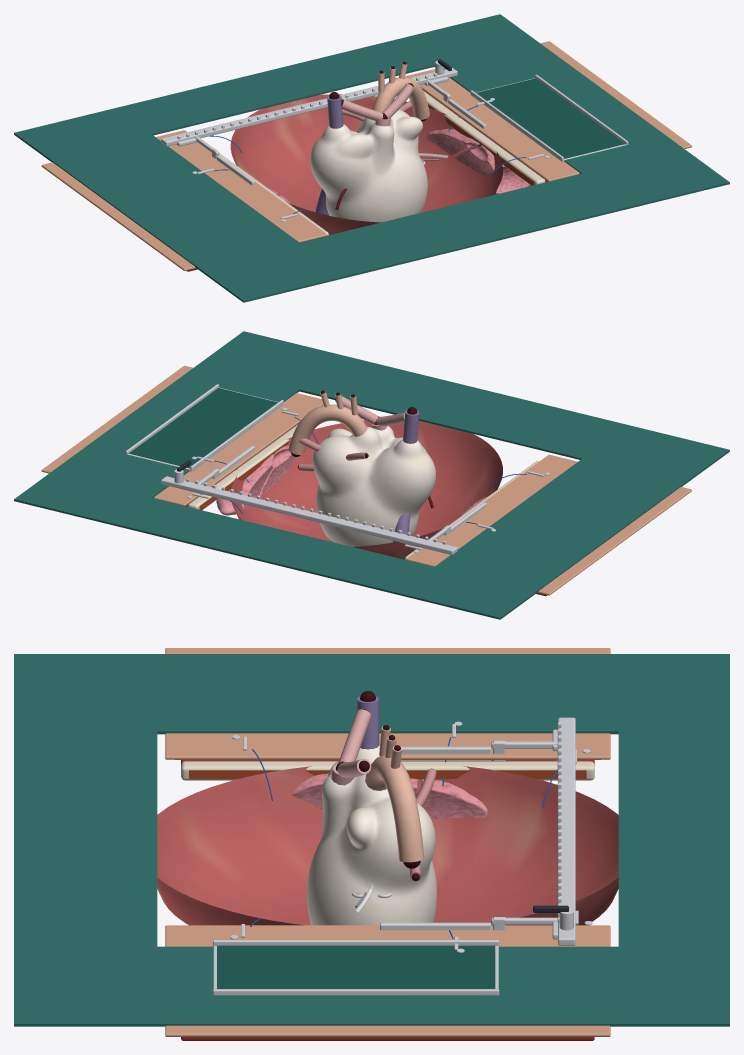
File: surgery-heart.glb
3 renders of one model, top to bottom at view 1: azimuth 30°, elevation 25°; view 2: azimuth 150°, elevation 25°; view 3: azimuth 270°, elevation 25°, orthographic. The views are drawn at different scales.
Parts seen in each view (by area): view 1: SH_field, SH_peri, SHL_chestL, SHL_chestR, SHL_retractor, SHL_lungL, SH_aorta, SH_pa, SH_vc; view 2: SH_field, SH_peri, SHL_chestL, SHL_chestR, SHL_retractor, SH_aorta, SHL_lungL, SH_vc, SH_pa; view 3: SH_field, SHL_chestR, SH_peri, SHL_chestL, SHL_retractor, SH_aorta, SHL_lungR, SH_pa, SH_vc.
Boxes of the visible parts, left/top/right/bottom form: SH_field: left=14, top=14, right=729, bottom=302; SH_peri: left=310, top=109, right=427, bottom=222; SHL_chestL: left=406, top=41, right=692, bottom=185; SHL_chestR: left=41, top=130, right=328, bottom=271; SHL_retractor: left=161, top=59, right=549, bottom=221; SHL_lungL: left=427, top=128, right=530, bottom=194; SH_aorta: left=372, top=61, right=429, bottom=121; SH_pa: left=341, top=83, right=414, bottom=126; SH_vc: left=315, top=92, right=343, bottom=215; SH_field: left=14, top=331, right=729, bottom=619; SH_peri: left=312, top=426, right=435, bottom=546; SHL_chestL: left=41, top=365, right=323, bottom=510; SHL_chestR: left=405, top=454, right=691, bottom=596; SHL_retractor: left=161, top=408, right=549, bottom=554; SH_aorta: left=288, top=390, right=367, bottom=456; SHL_lungL: left=217, top=445, right=296, bottom=515; SH_vc: left=393, top=407, right=419, bottom=542; SH_pa: left=335, top=396, right=404, bottom=430; SH_field: left=14, top=654, right=729, bottom=1026; SHL_chestR: left=165, top=648, right=610, bottom=780; SH_peri: left=307, top=745, right=436, bottom=925; SHL_chestL: left=165, top=925, right=610, bottom=1040; SHL_retractor: left=230, top=717, right=592, bottom=952; SH_aorta: left=365, top=725, right=424, bottom=868; SHL_lungR: left=292, top=773, right=487, bottom=818; SH_pa: left=331, top=709, right=371, bottom=785; SH_vc: left=357, top=691, right=379, bottom=749.
Bounding box in the file's own units: 11.5 × 3.77 × 9.
